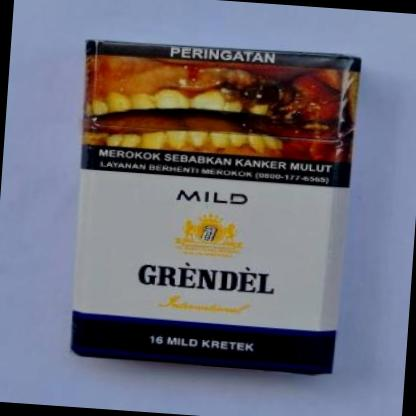objects: (65, 37, 361, 376)
